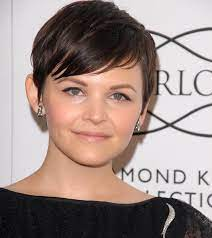eye: (106, 90, 132, 104), (62, 84, 86, 98)
mouth: (69, 126, 113, 145)
nose: (88, 91, 106, 124)
